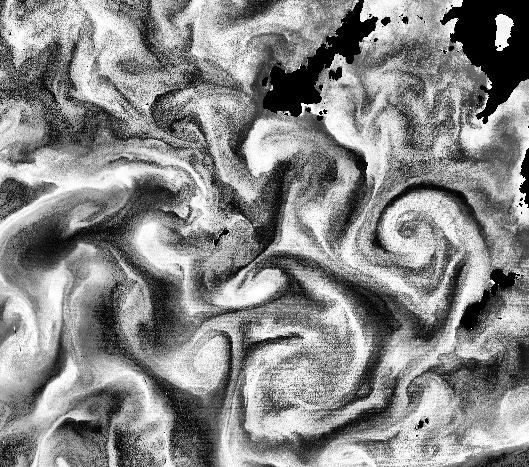AE: (248, 322, 366, 439)
CE: (375, 179, 457, 263), (176, 327, 238, 393)
